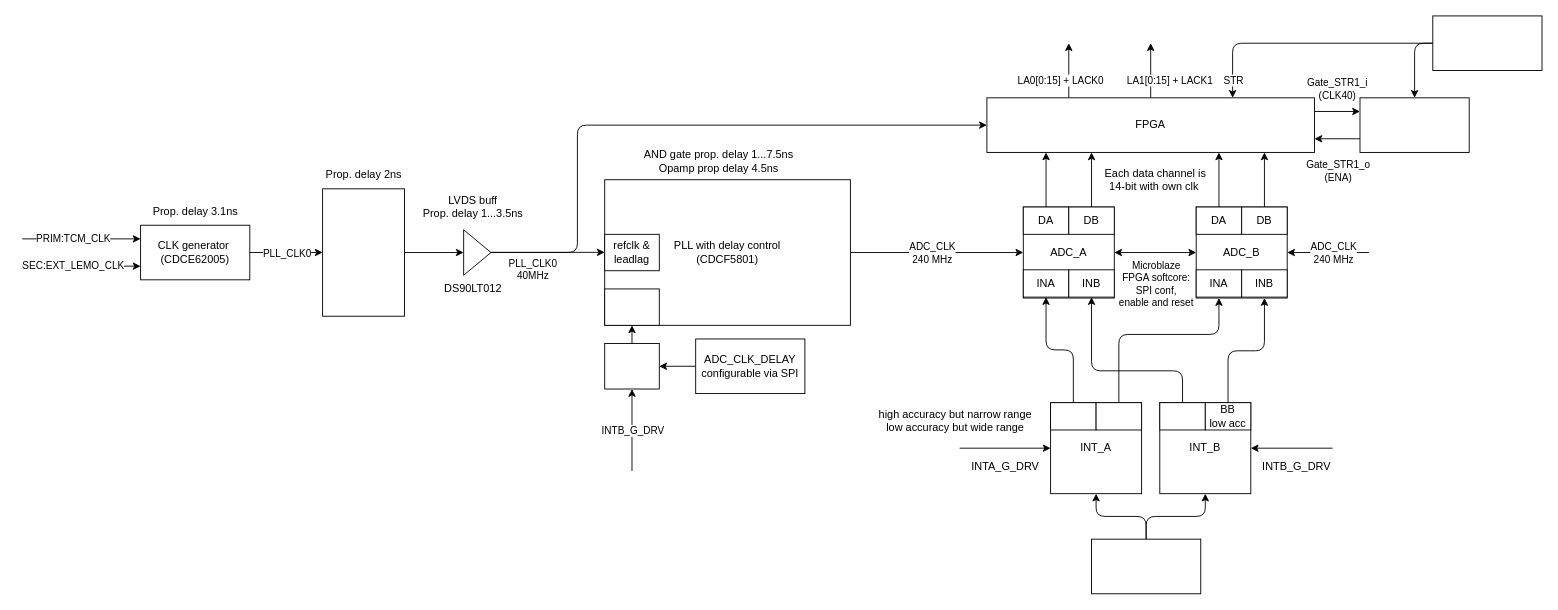
The diagram is 1558 pixels wide and 610 high, and some of its shapes have lost their labels. The centre of each missing label's shape, as x and y in pixels:
AA high acc: (1073,416)
AB high acc: (1182,416)
Analog circuit: (631,366)
BA low acc: (1118,416)
CFD_out: (1487,43)
CLK fanout (ADCLK854): (363,252)
dlyctrl: (631,306)
DRV_O analog signal: (1146,566)
Gate strobe circuit: (1414,124)
